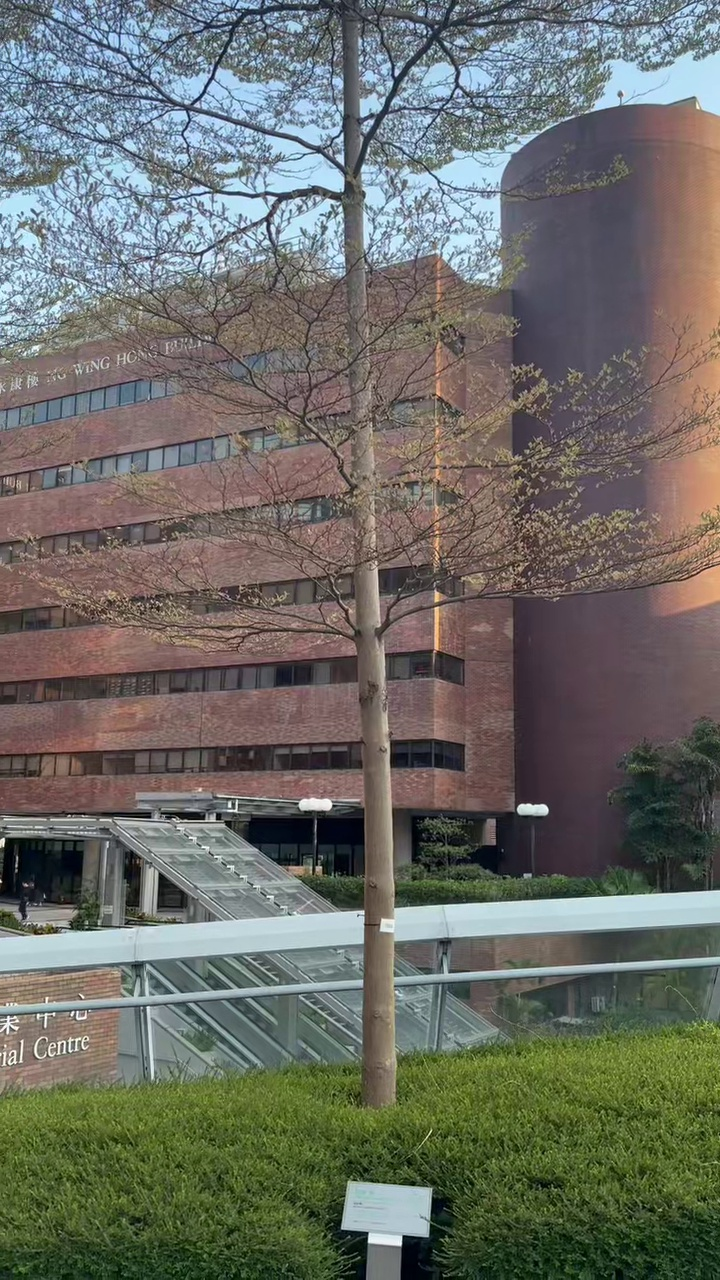Terminalia mantaly: (2, 0, 719, 1106)
